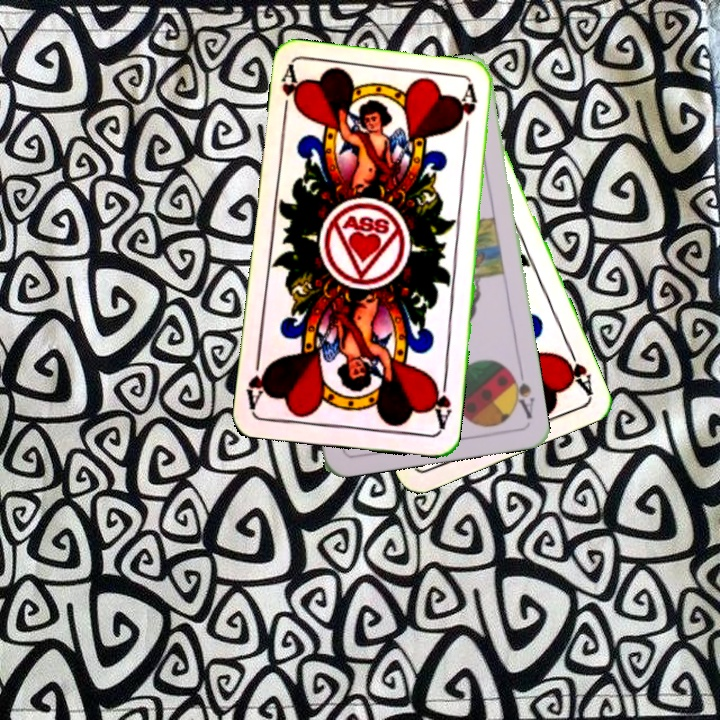HA: (556, 340, 596, 397), (277, 63, 305, 122), (427, 373, 454, 432)
SA: (505, 364, 537, 422)
